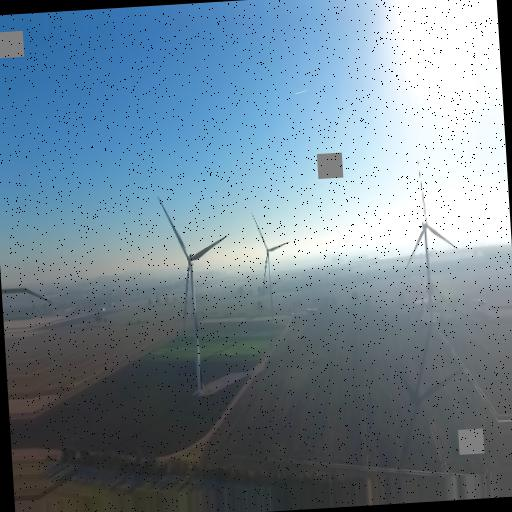wind turbine: (160, 197, 227, 352), (404, 180, 458, 306), (246, 216, 290, 310)
